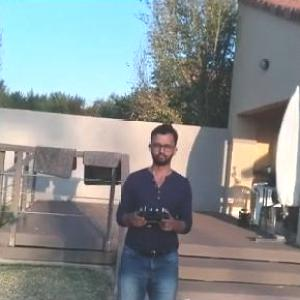follow: (109, 121, 199, 299)
